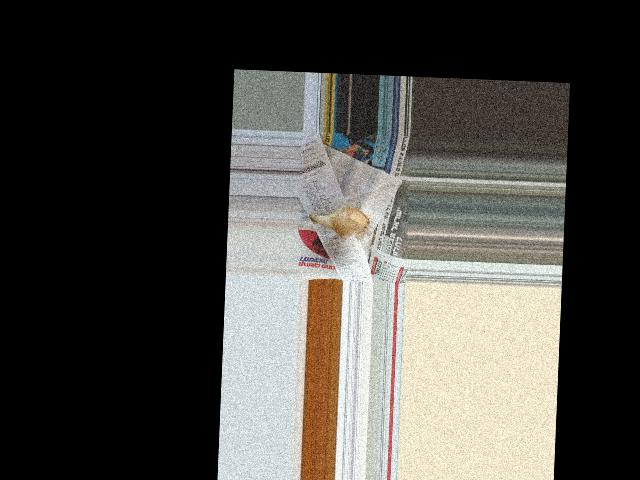onion: (324, 204, 368, 236)
